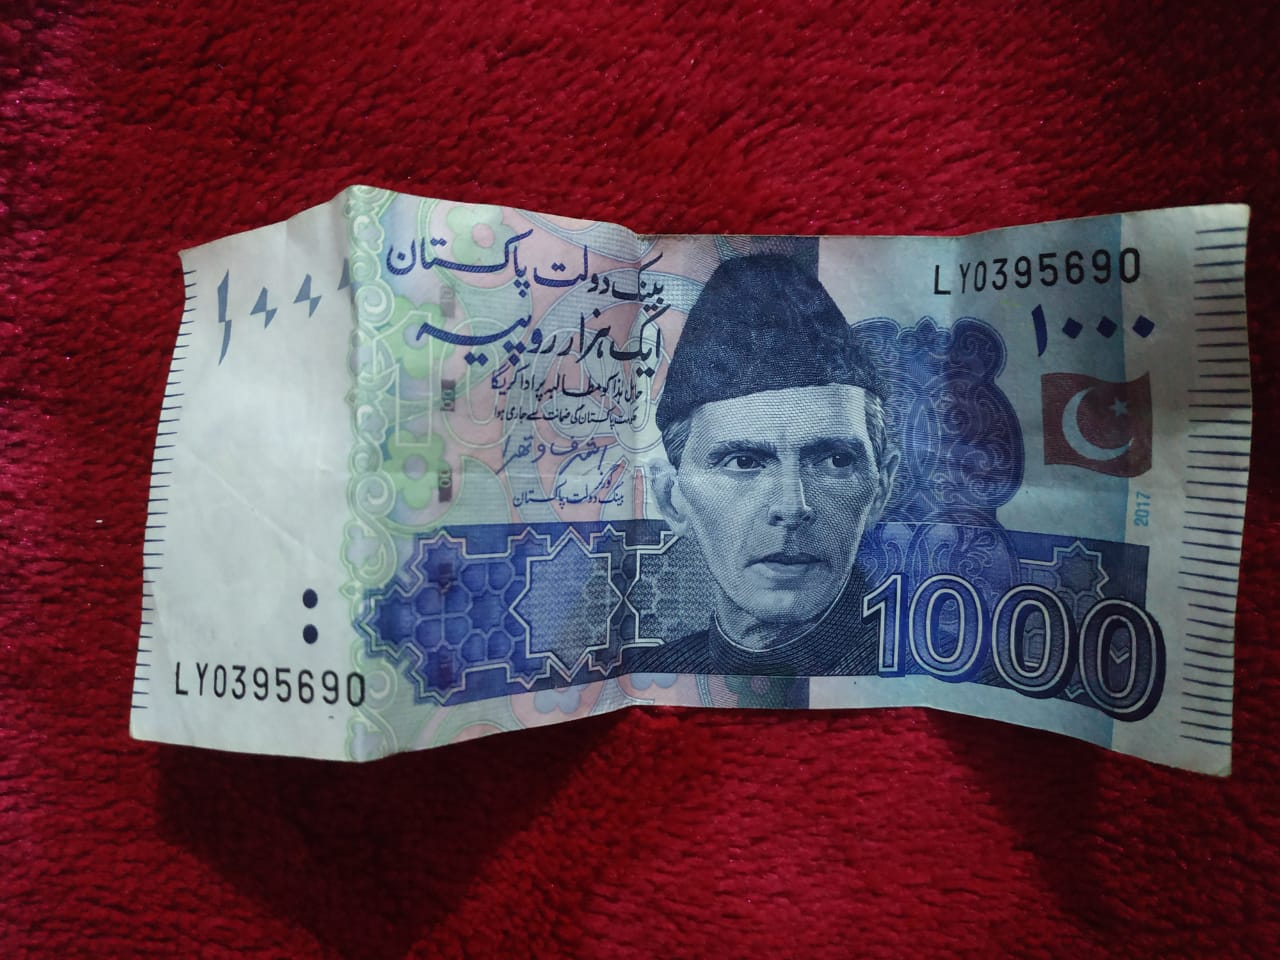1000 rupee: (156, 163, 1253, 866)
